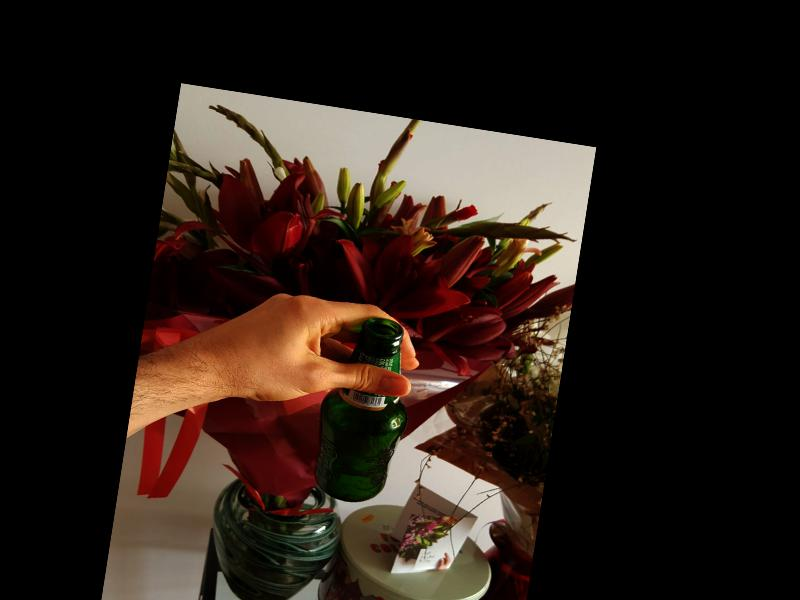Beer: (310, 313, 421, 509)
